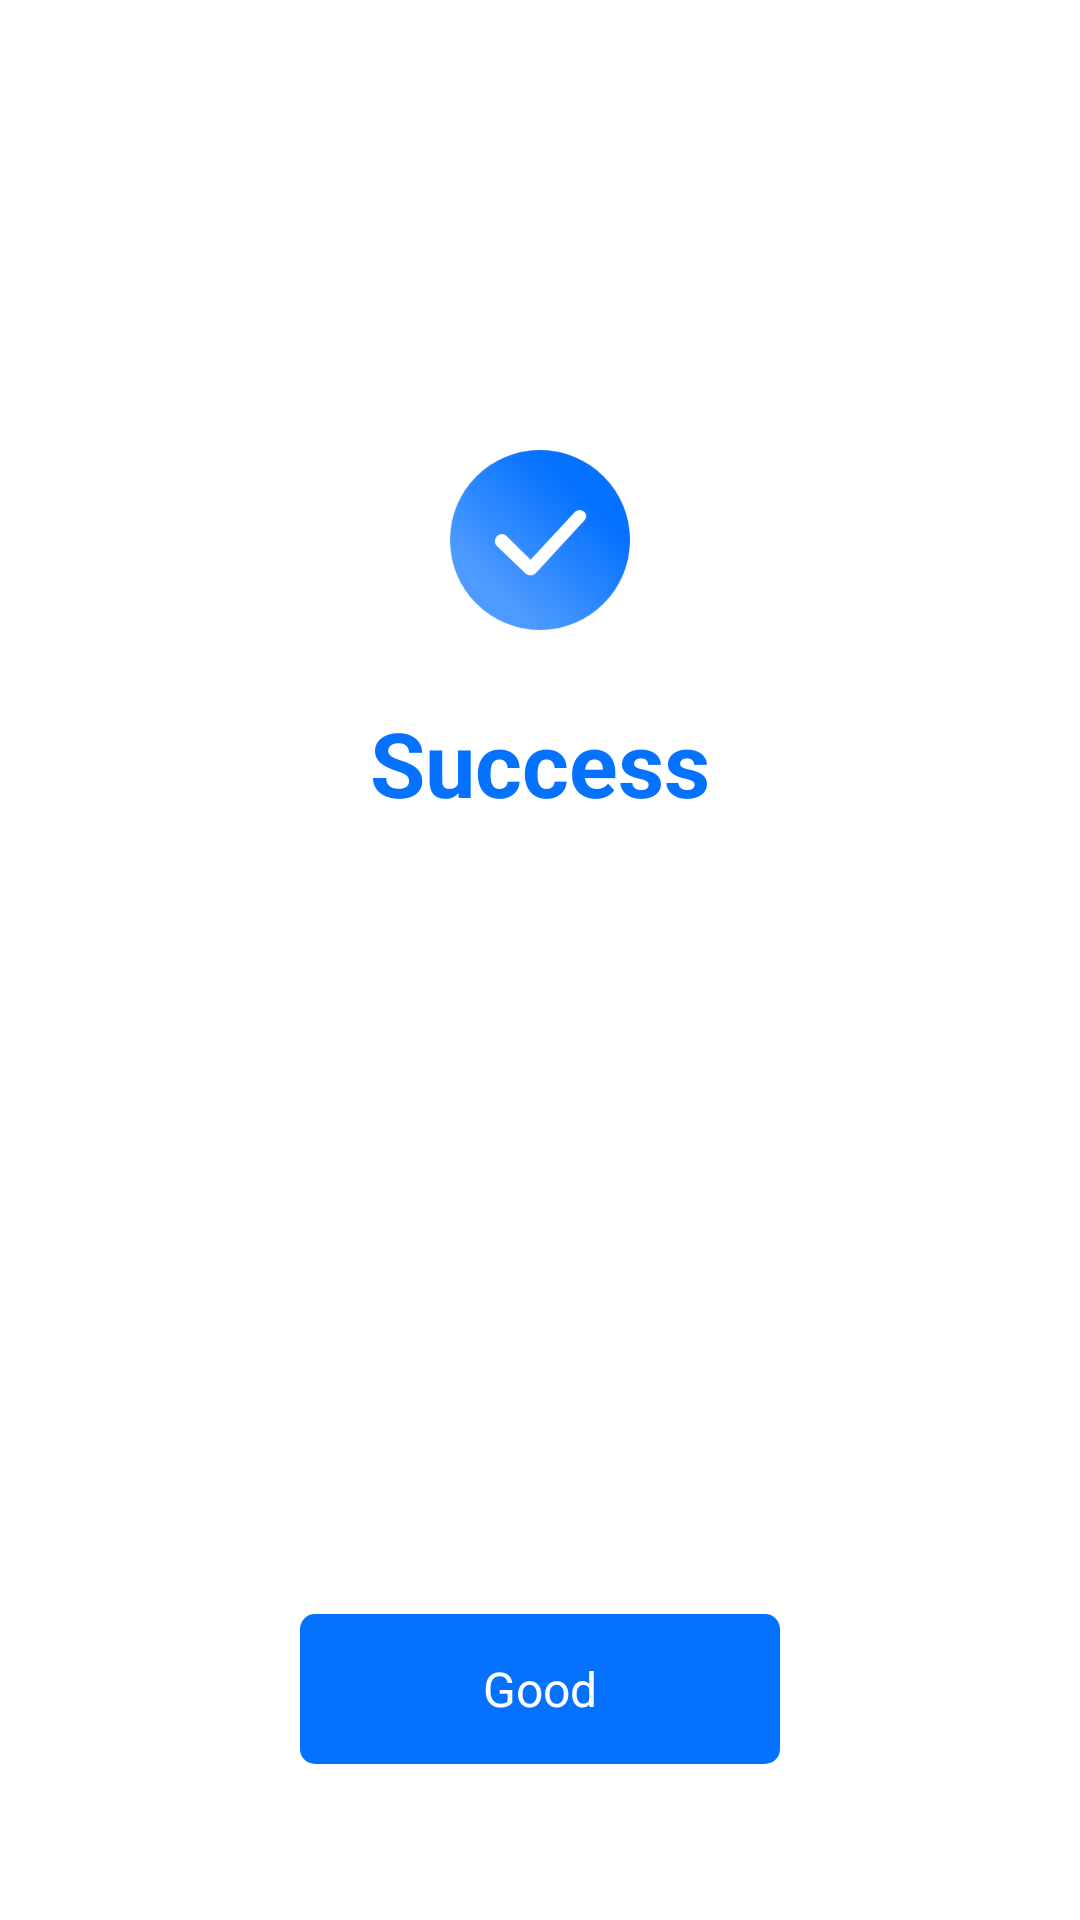

Icons on this 1080*1920 Android screen, each with its box as (x1, y1, x2, y2):
setup ok: (450, 450, 630, 630)
